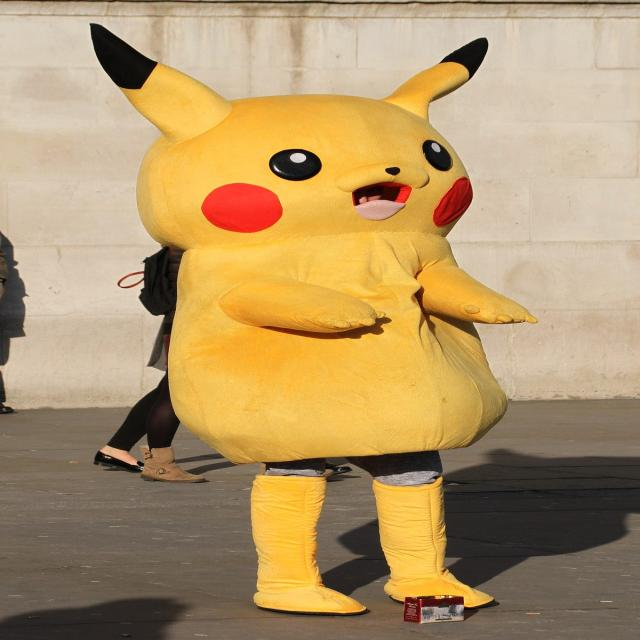pikachu: (90, 27, 490, 611)
